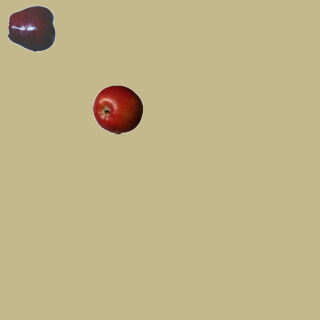Apple Braeburn: (92, 84, 142, 134)
Apple Red Delicious: (7, 3, 57, 53)
